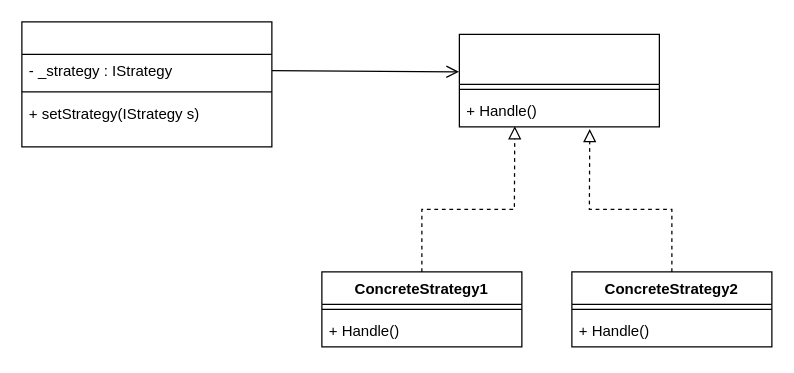
Some shapes in this 794 by 373 pixel diagram are drawn without their labels. Here are the shapes that lost their labels. From the top down, the box of each, then its label:
(21, 21, 272, 147): Context
(458, 33, 659, 127): <<interface>> IStrategy
